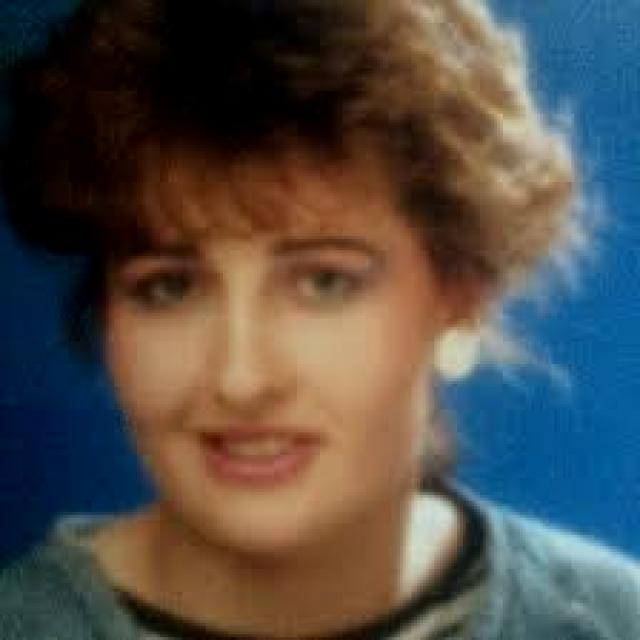normal_face: (86, 92, 479, 570)
